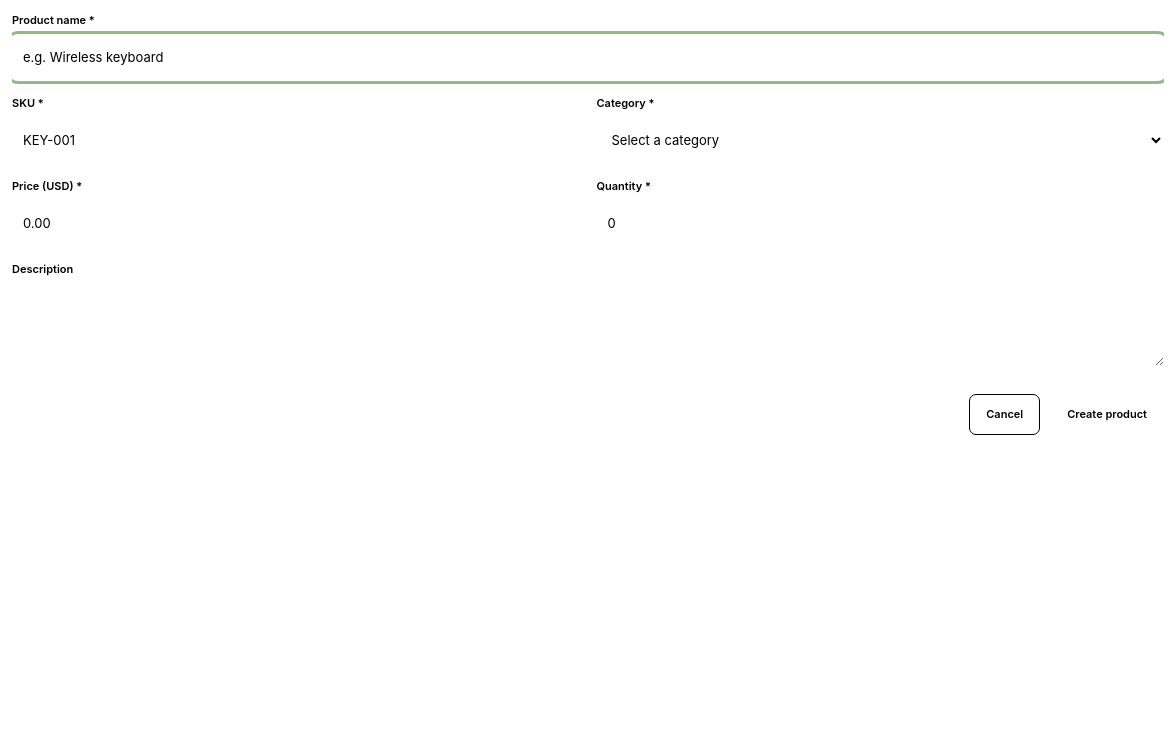
forms › shows validation messages without sending invalid product input
Click the button "Create product".
click(1107, 414)  # box x1=1050 y1=394 x2=1164 y2=434
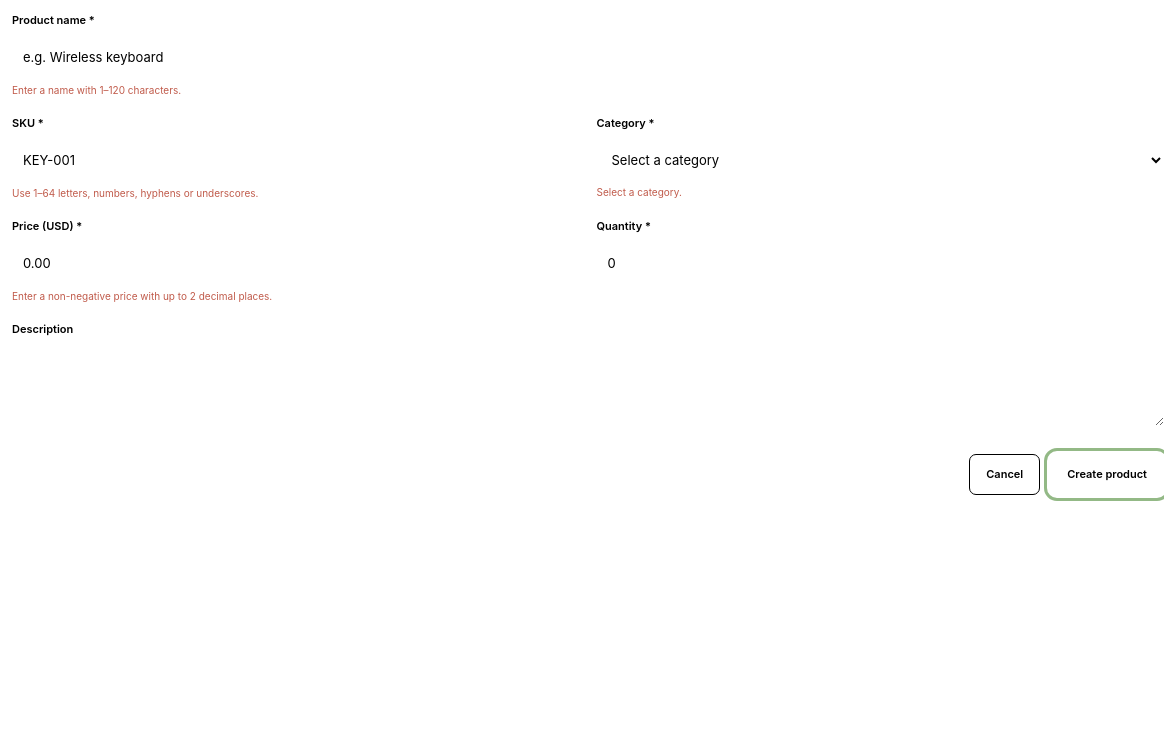
Expected: the text "Select a category." is shown, x1=596 y1=186 x2=682 y2=198
